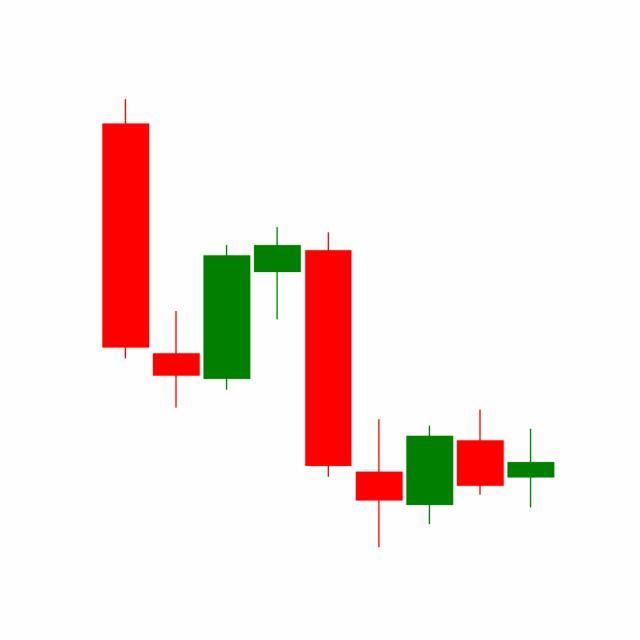Hikkake Pattern: (252, 224, 506, 549)
